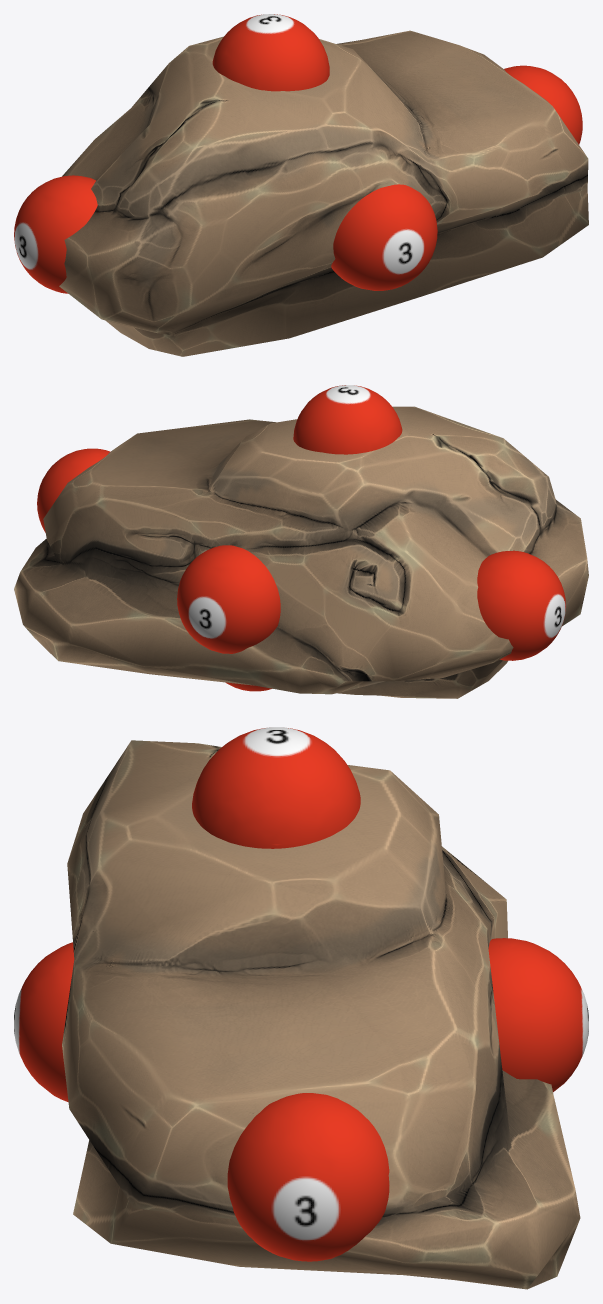
File: ast3.fbx
3 views of the same model, one above another, from view 1: azimuth 30°, elevation 25°; view 2: azimuth 150°, elevation 25°; view 3: azimuth 270°, elevation 25° (orthographic). The views are drawn at different scales.
Visible parts, largest first — view 1: node_id76, pbb_cue.018, pbb_cue.032, pbb_cue.035, pbb_cue.034; view 2: node_id76, pbb_cue.031, pbb_cue.035, pbb_cue.032, pbb_cue.034; view 3: node_id76, pbb_cue.034, pbb_cue.032, pbb_cue.031, pbb_cue.018.
Boxes of the visible parts, bbox=[...] form: node_id76: bbox=[59, 30, 588, 356]; pbb_cue.018: bbox=[331, 184, 437, 290]; pbb_cue.032: bbox=[212, 14, 329, 91]; pbb_cue.035: bbox=[14, 175, 97, 293]; pbb_cue.034: bbox=[504, 65, 582, 144]; node_id76: bbox=[14, 406, 588, 698]; pbb_cue.031: bbox=[177, 545, 280, 653]; pbb_cue.035: bbox=[477, 550, 565, 660]; pbb_cue.032: bbox=[293, 385, 402, 454]; pbb_cue.034: bbox=[37, 448, 110, 532]; node_id76: bbox=[62, 740, 580, 1289]; pbb_cue.034: bbox=[227, 1093, 389, 1261]; pbb_cue.032: bbox=[192, 727, 360, 848]; pbb_cue.031: bbox=[488, 938, 588, 1092]; pbb_cue.018: bbox=[14, 942, 74, 1102].
Bounding box in the file's own units: 83.67 × 46.77 × 52.48.
2 materials, 2 textured.
